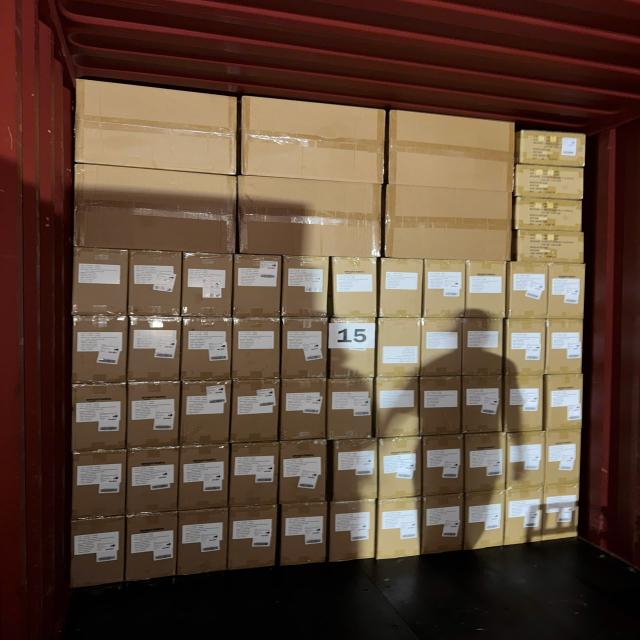Carton: (74, 77, 240, 177), (72, 161, 236, 259), (238, 93, 388, 186), (235, 173, 382, 265), (386, 108, 514, 192), (384, 182, 514, 263), (70, 520, 125, 593), (71, 381, 126, 452), (70, 319, 126, 387), (72, 450, 126, 519), (73, 248, 127, 316), (126, 512, 178, 582), (128, 447, 180, 517), (128, 382, 180, 452), (129, 251, 183, 318), (129, 317, 182, 385), (183, 252, 234, 318), (180, 444, 230, 511), (179, 508, 229, 575), (227, 504, 276, 571), (181, 318, 232, 382), (182, 381, 231, 447), (228, 442, 277, 508), (231, 318, 280, 382), (233, 254, 281, 319), (279, 441, 327, 505), (330, 498, 378, 562), (230, 379, 277, 444), (283, 256, 330, 319), (330, 318, 378, 379), (279, 505, 326, 567), (282, 318, 328, 381), (332, 256, 378, 319), (332, 439, 378, 502), (329, 378, 375, 440), (281, 378, 326, 441), (375, 496, 419, 560), (518, 128, 588, 168), (374, 376, 418, 438), (378, 257, 422, 319), (516, 199, 584, 238), (375, 317, 418, 378), (465, 492, 507, 554), (466, 434, 508, 496), (381, 436, 423, 498), (422, 437, 463, 499), (422, 497, 463, 559), (464, 377, 506, 436), (421, 317, 462, 377), (463, 319, 505, 377), (468, 261, 509, 320), (518, 168, 587, 203), (424, 259, 464, 319), (420, 374, 460, 434), (516, 228, 585, 262), (546, 376, 586, 434), (508, 262, 548, 320), (503, 488, 542, 547), (504, 319, 544, 376), (503, 373, 542, 431), (505, 434, 543, 492), (546, 319, 584, 376), (549, 264, 586, 322), (545, 432, 582, 489), (544, 485, 580, 542)
